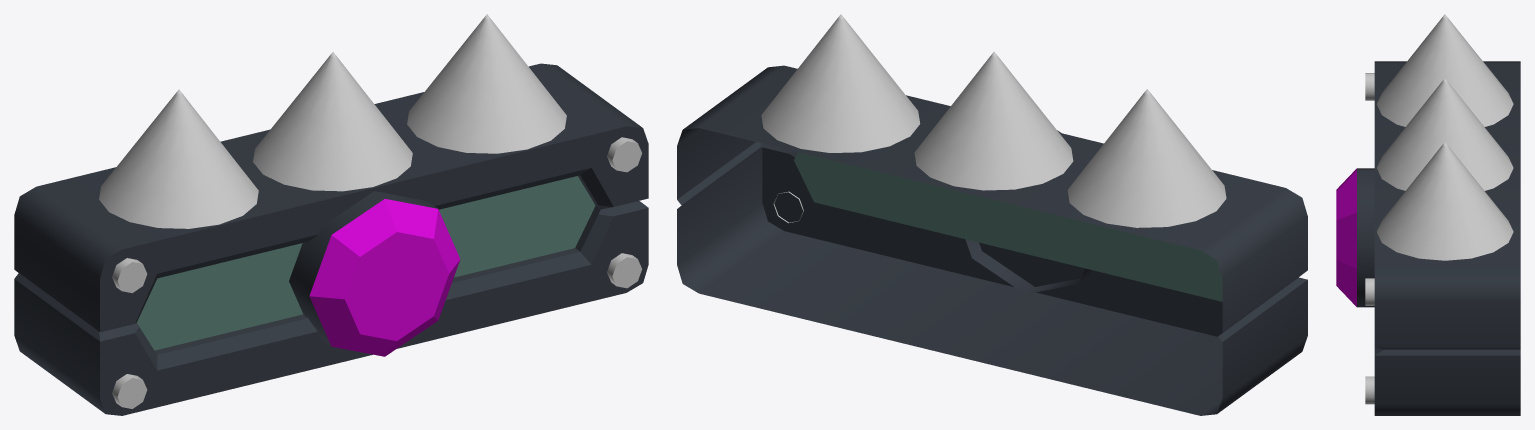
The model's file is baoshijiguan@xiangqian.FBX.
3 renders of one model, left to right at view 1: azimuth 30°, elevation 25°; view 2: azimuth 150°, elevation 25°; view 3: azimuth 270°, elevation 25°, orthographic. The views are drawn at different scales.
Parts seen in each view (by area): view 1: 宝石机关, 宝石机关_镶嵌zzzzz; view 2: 宝石机关; view 3: 宝石机关, 宝石机关_镶嵌zzzzz.
Boxes of the visible parts, left/top/right/bottom form: 宝石机关: left=14, top=14, right=648, bottom=415; 宝石机关_镶嵌zzzzz: left=309, top=199, right=460, bottom=356; 宝石机关: left=677, top=14, right=1307, bottom=415; 宝石机关: left=1357, top=14, right=1520, bottom=415; 宝石机关_镶嵌zzzzz: left=1336, top=168, right=1356, bottom=306.
Size of the model in its own units: 125 by 59.49 by 42.88.
